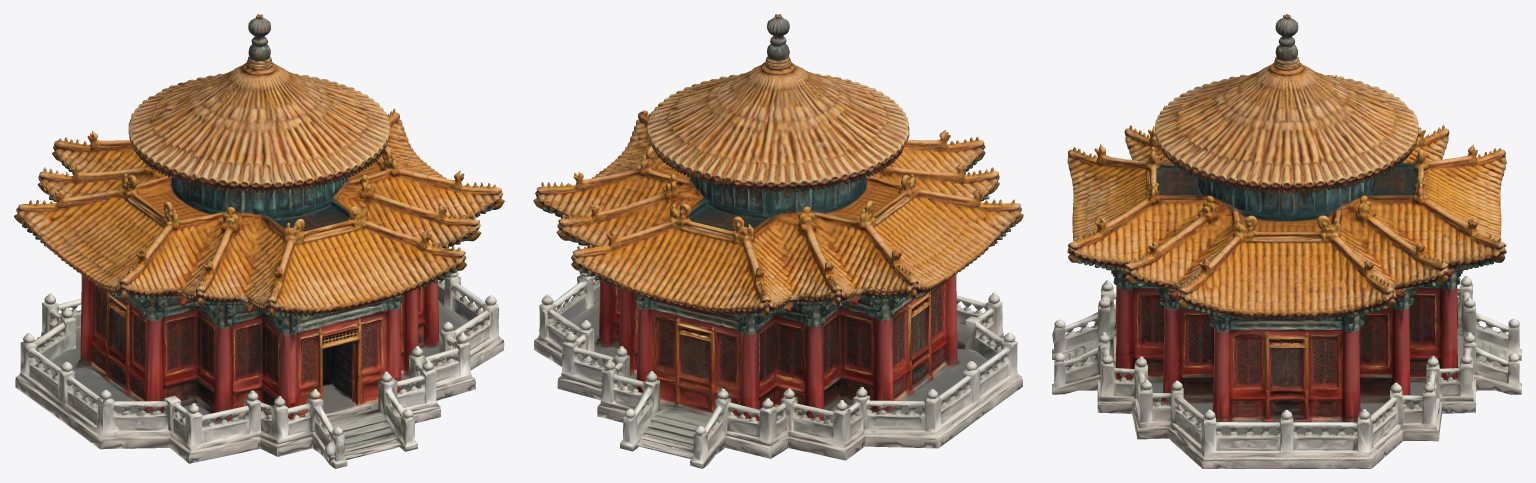
The model's file is pavilion.glb.
3 renders of one model, left to right at view 1: azimuth 30°, elevation 25°; view 2: azimuth 150°, elevation 25°; view 3: azimuth 270°, elevation 25°, orthographic.
Visible parts, largest first — view 1: tripo_node_26dce69d-870f-406a-9ab6-1b4278e37b14; view 2: tripo_node_26dce69d-870f-406a-9ab6-1b4278e37b14; view 3: tripo_node_26dce69d-870f-406a-9ab6-1b4278e37b14.
Part boxes in pixels (<box>): tripo_node_26dce69d-870f-406a-9ab6-1b4278e37b14: <box>14,14,504,468</box>; tripo_node_26dce69d-870f-406a-9ab6-1b4278e37b14: <box>533,14,1023,468</box>; tripo_node_26dce69d-870f-406a-9ab6-1b4278e37b14: <box>1052,14,1521,468</box>.
Bounding box in the file's own units: 0.9777 × 0.8274 × 0.9793.
1 material, 1 textured.
